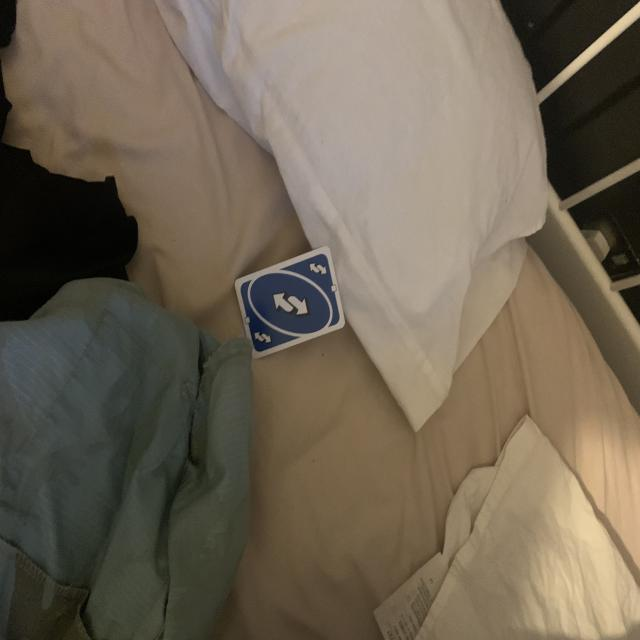lbluerevers-20: (307, 258, 329, 280)
